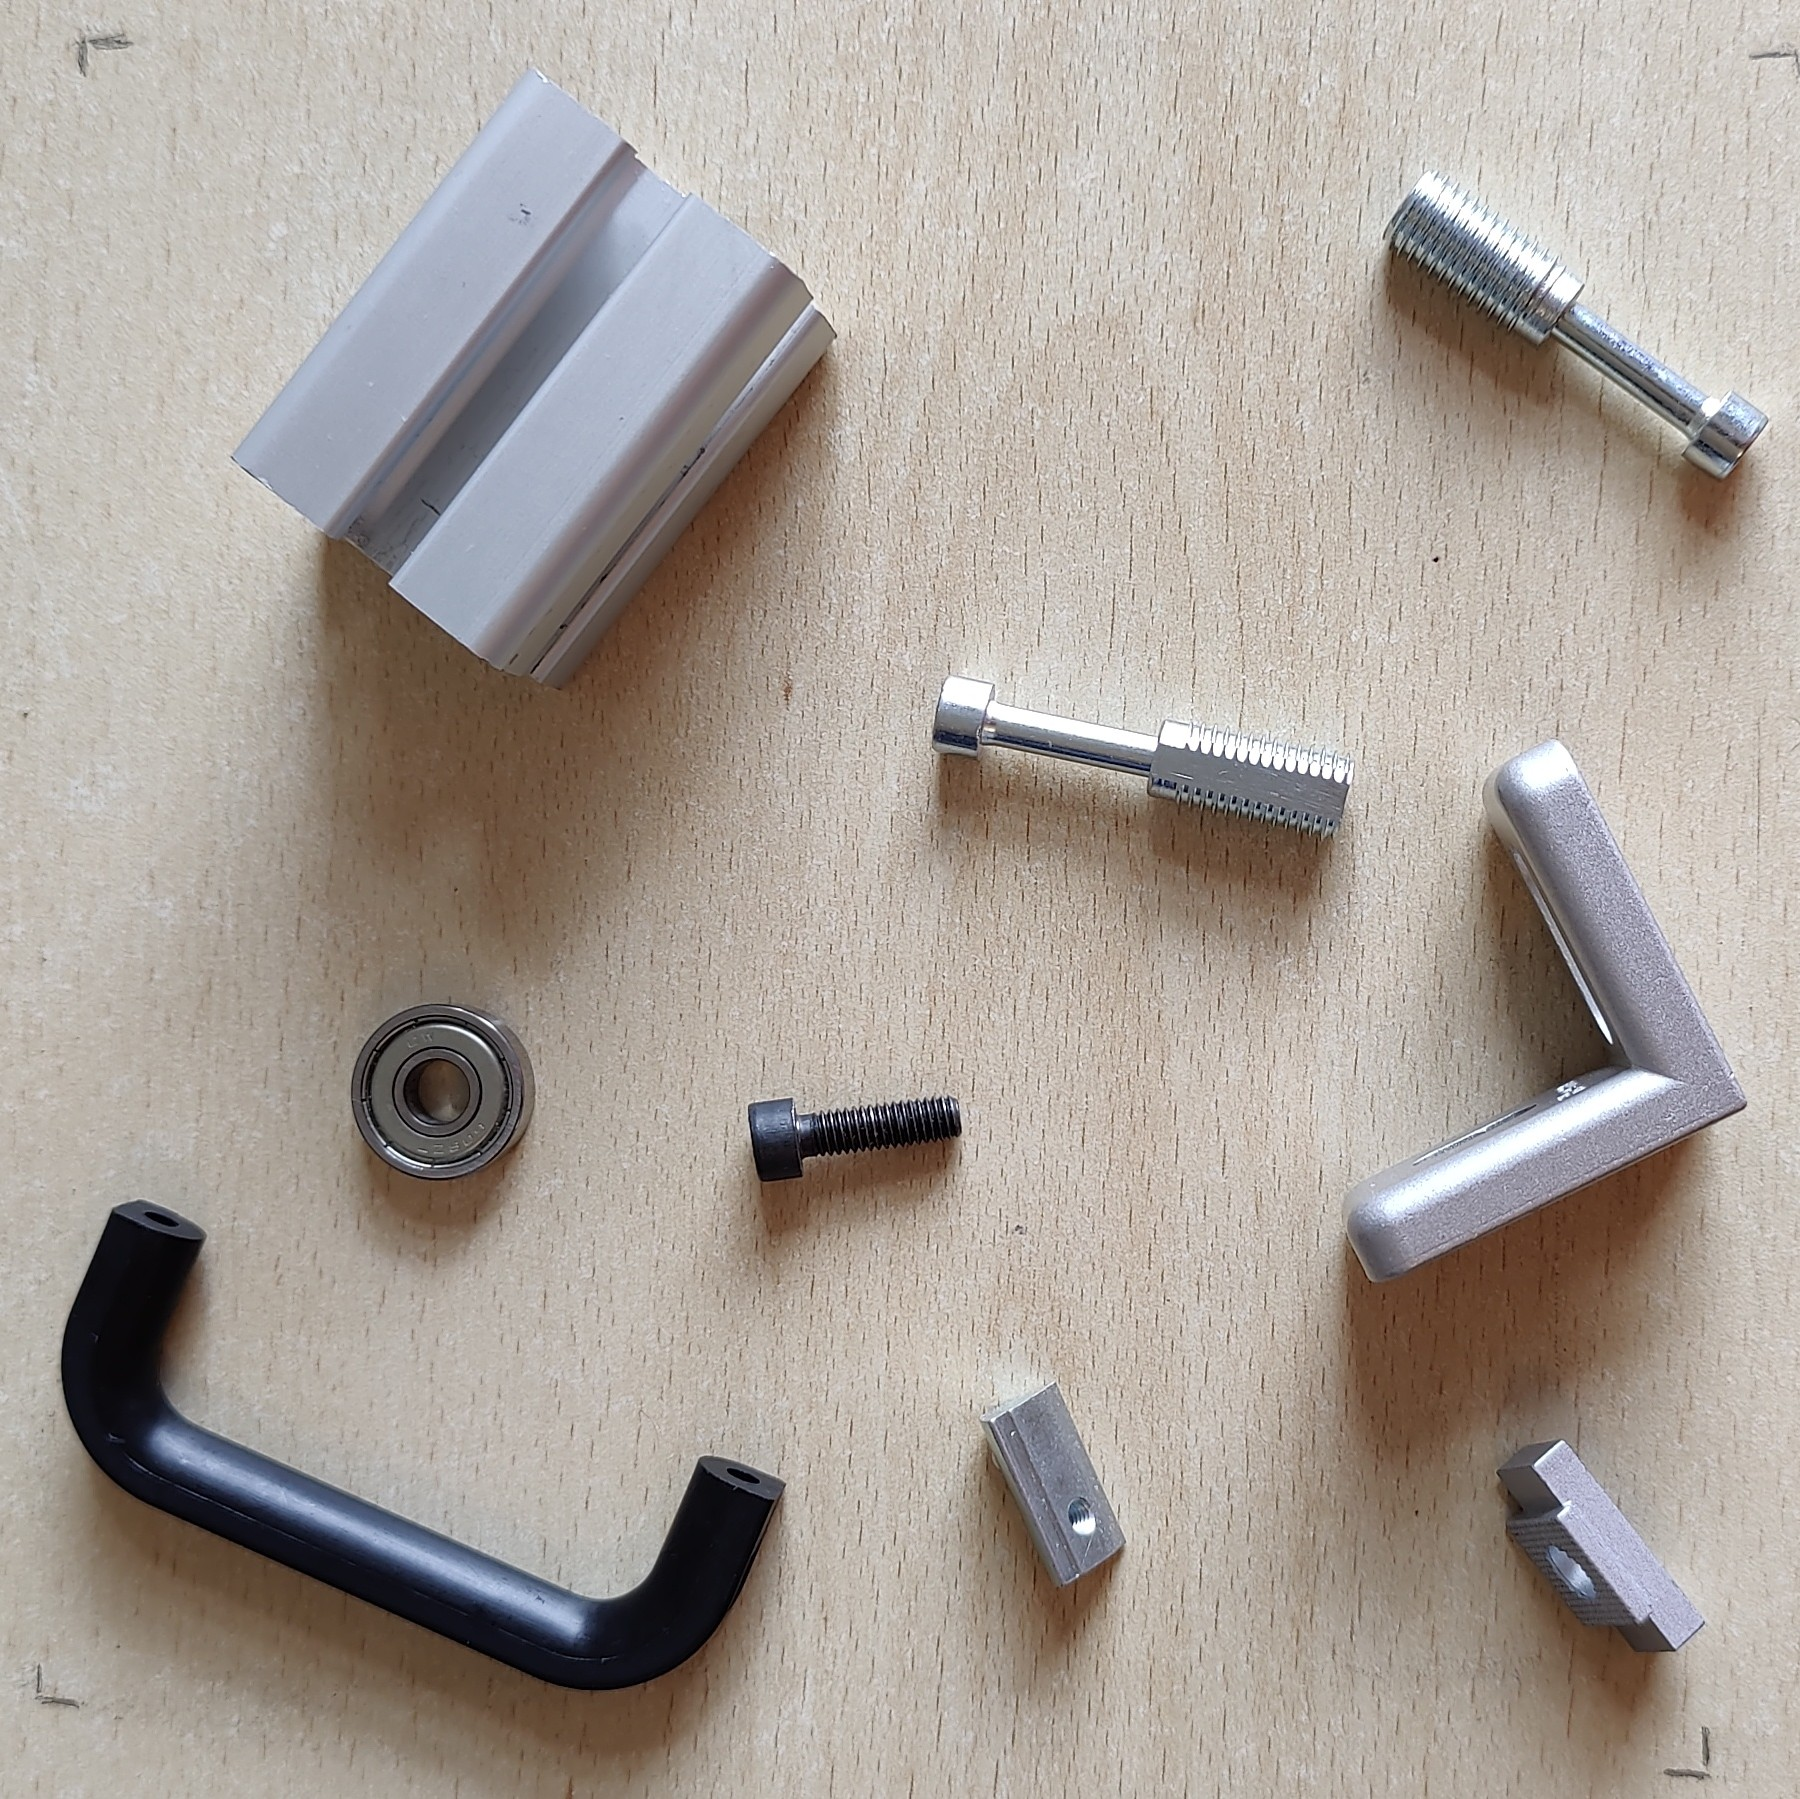Aluminium Extension: (224, 63, 843, 690)
Ball Bearing: (347, 1000, 535, 1185)
Multiwinkel: (1336, 733, 1751, 1288)
Pull Handle: (58, 1194, 789, 1694)
Shoulder Socket Head Cap Screw: (1378, 168, 1770, 483), (929, 667, 1359, 842)
Socket Head Cap Screw: (743, 1092, 965, 1185)
T Nut Square: (1490, 1433, 1706, 1657)
T Spring Nut: (975, 1372, 1128, 1591)
